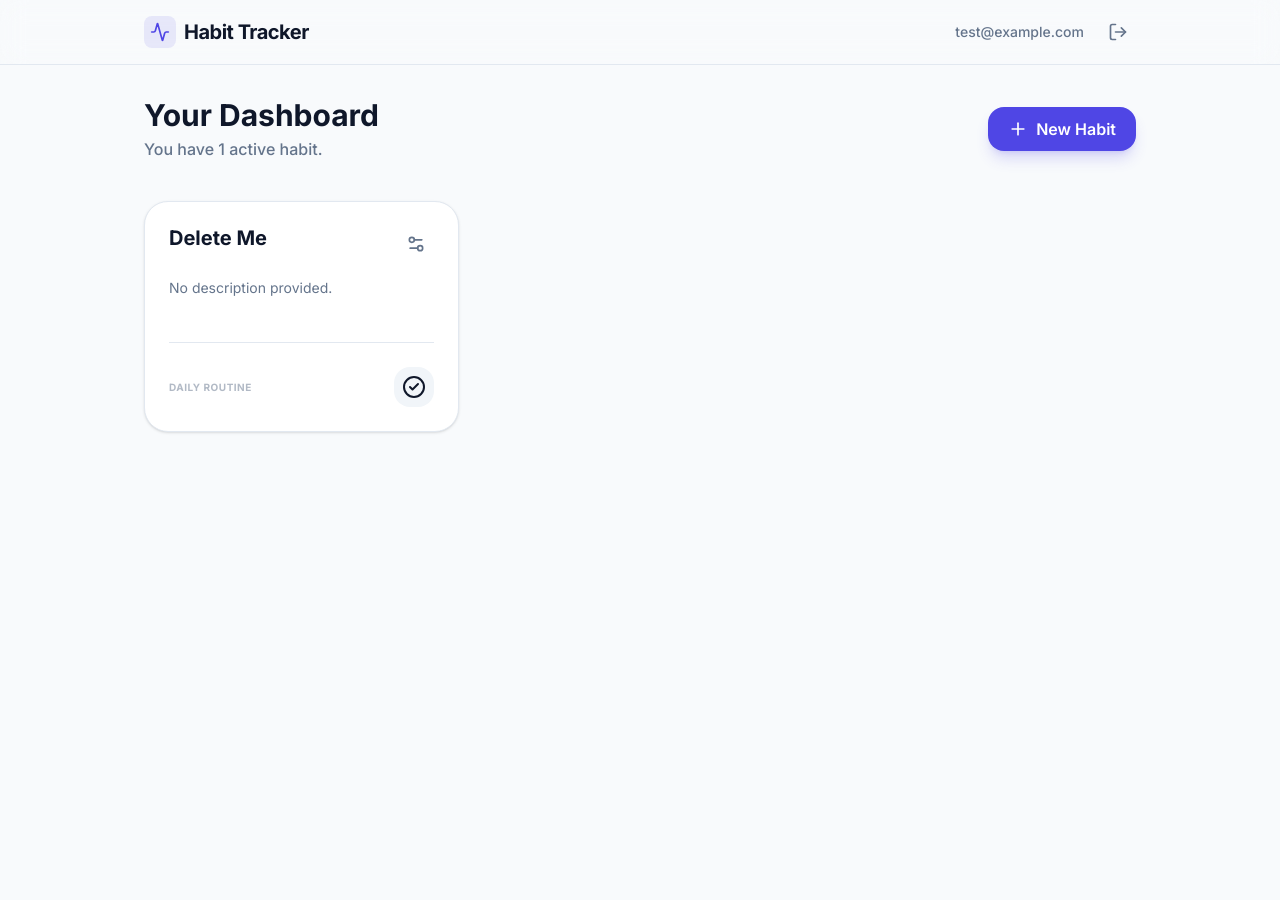
habit form › deletes a habit only after explicit confirmation
Click the button with test id "habit-edit-delete-me" at (416, 244), box top-left (398, 226), bottom-right (434, 262)
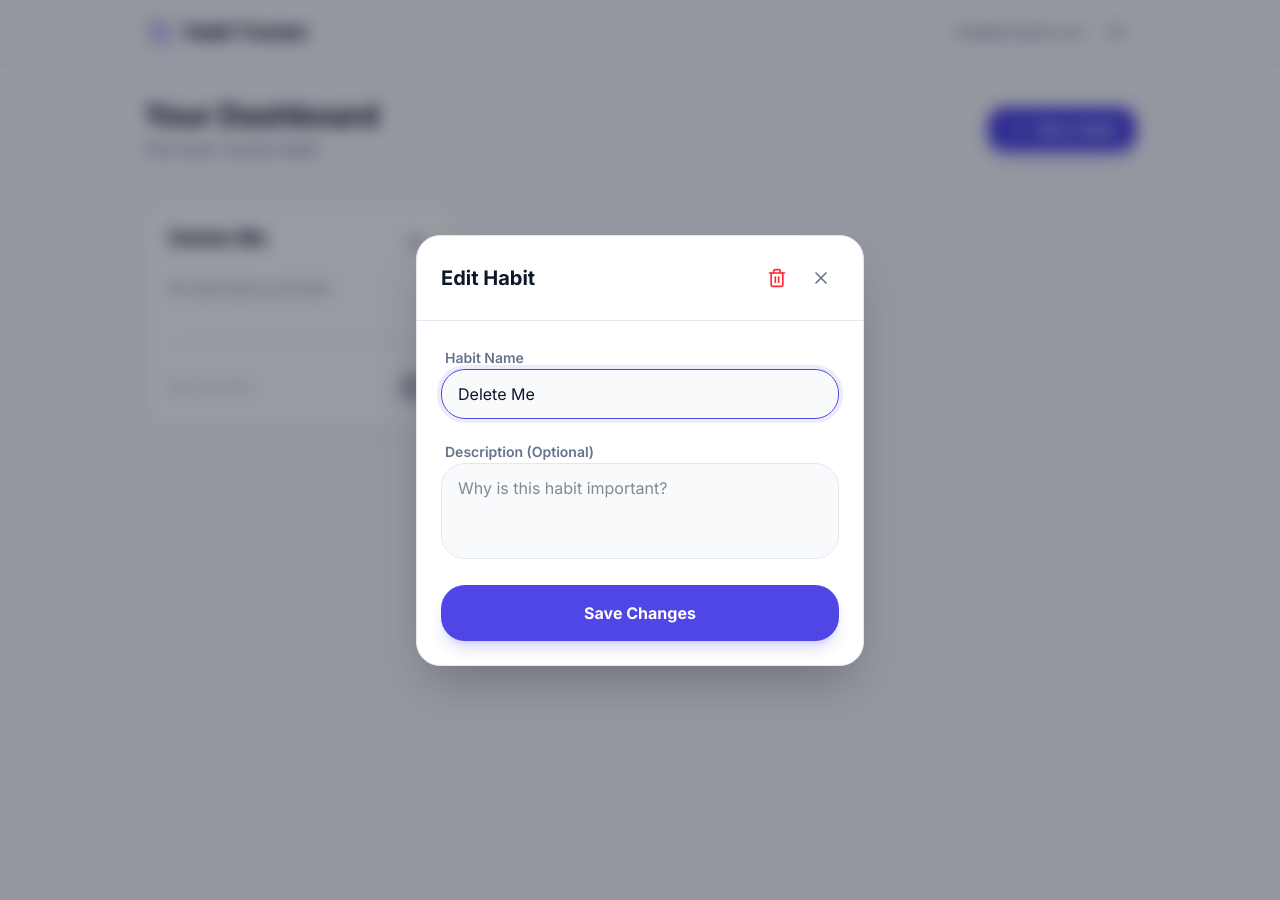
Click the button with test id "confirm-delete-button" at (777, 278), box top-left (759, 260), bottom-right (795, 296)
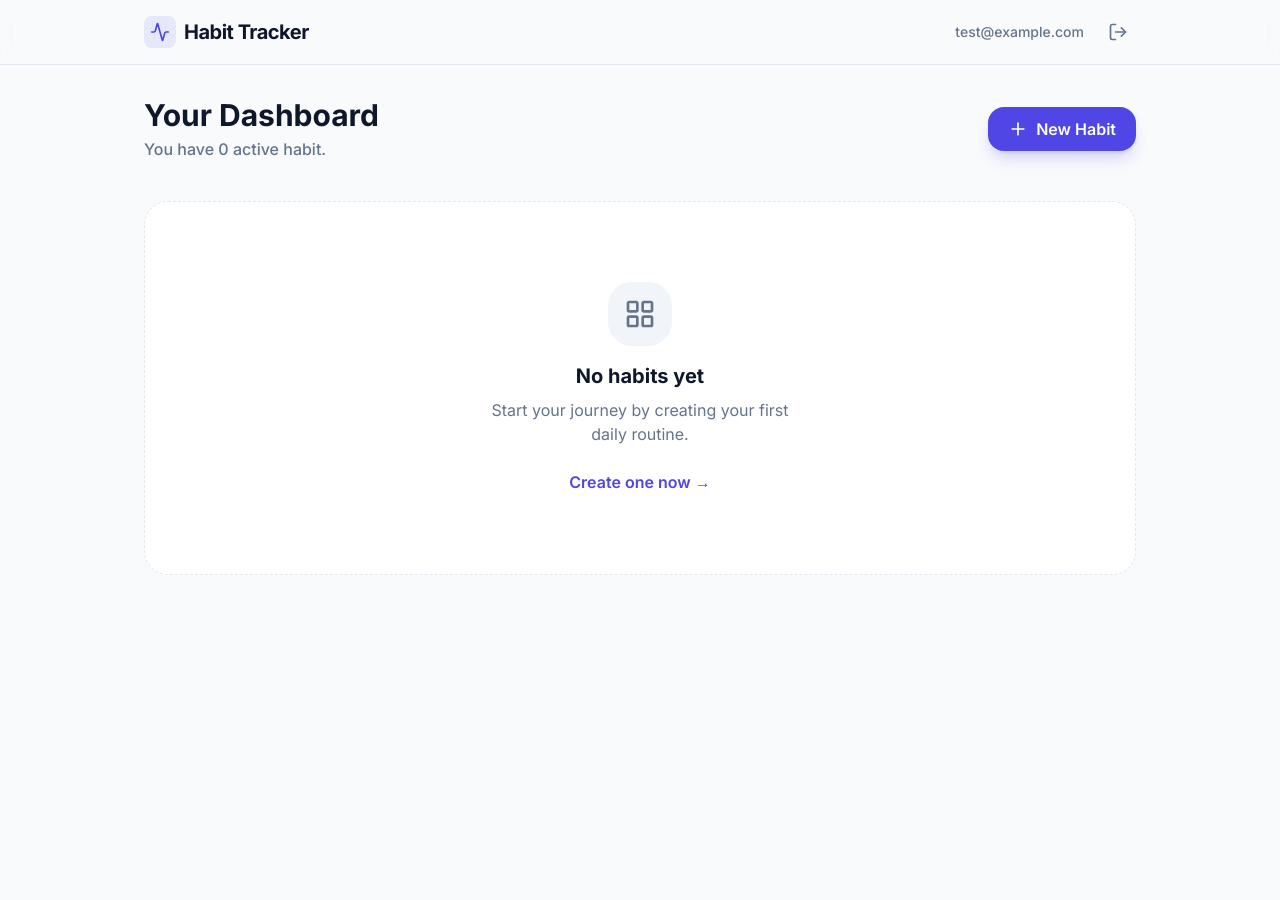
Check: the element with test id "habit-card-delete-me" is gone
